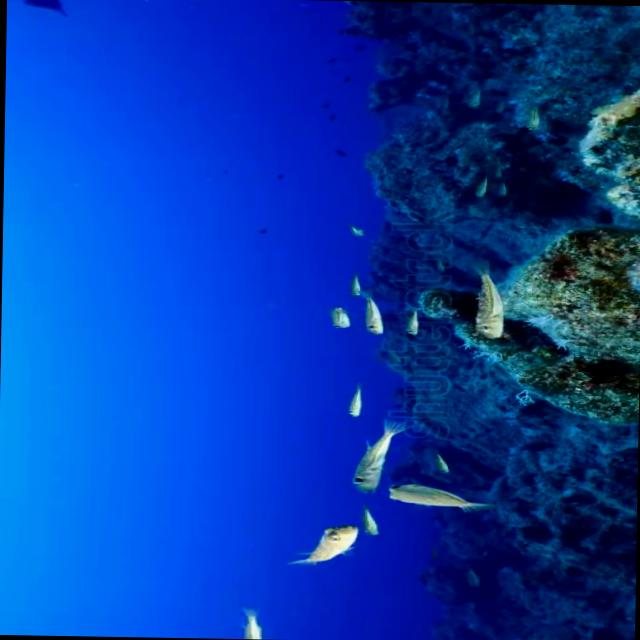Balon Baligi: (341, 418, 402, 491), (375, 482, 491, 516), (470, 262, 508, 344), (293, 520, 357, 564), (318, 300, 352, 336), (360, 290, 387, 334), (342, 381, 371, 417), (393, 308, 428, 337)
